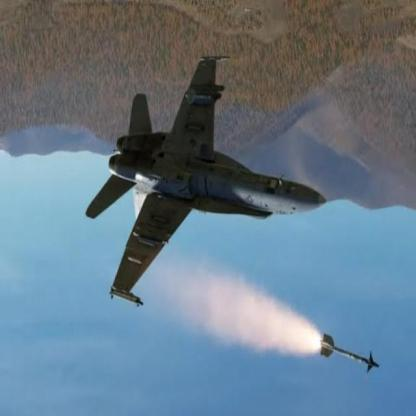MIL_TBM: (318, 340, 383, 375)
